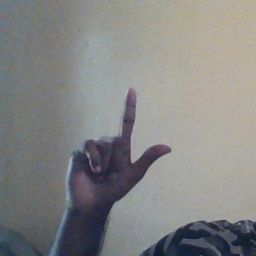L: (61, 85, 176, 204)
